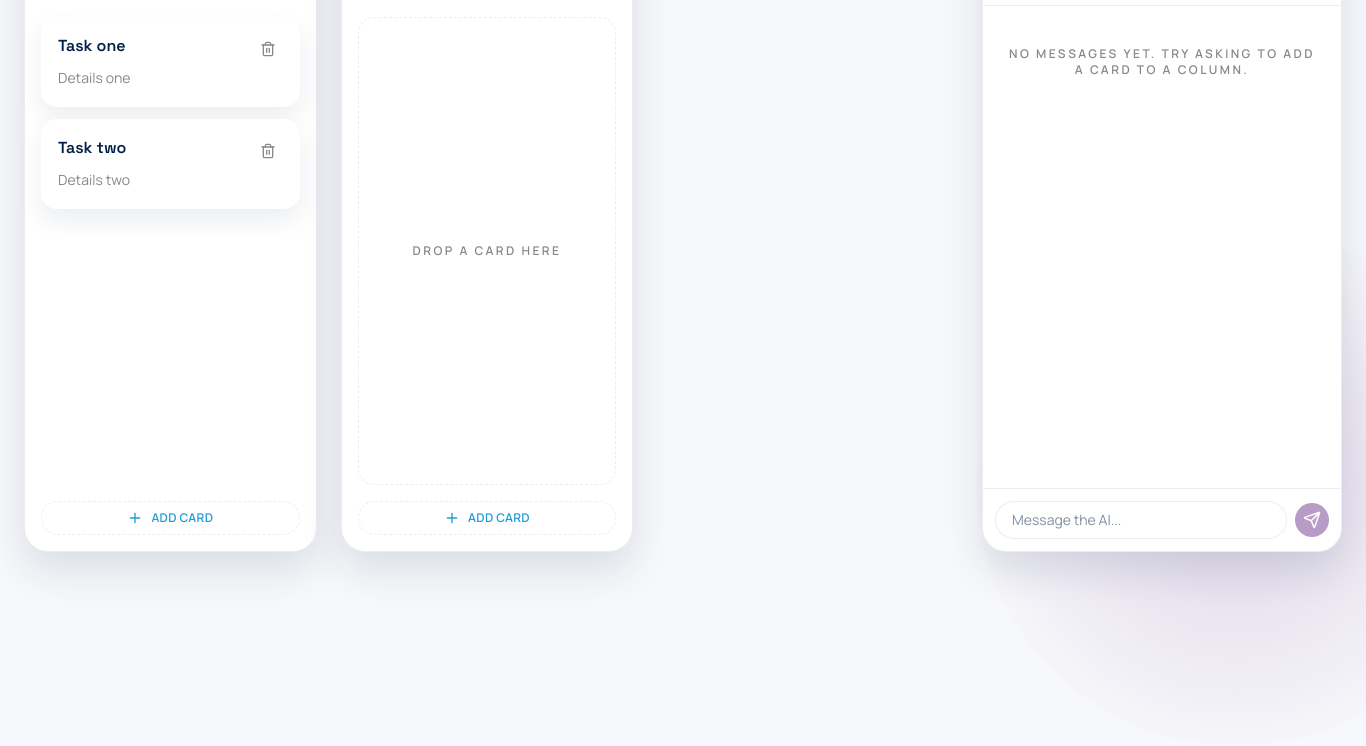
Test: KanbanBoard › replaces the board when the AI returns a board update
This screenshot has width=1366, height=746.
(page scrolled)
In the field named "Chat message": (1141,520) 995,501 -> 1287,539, type "Add a card"
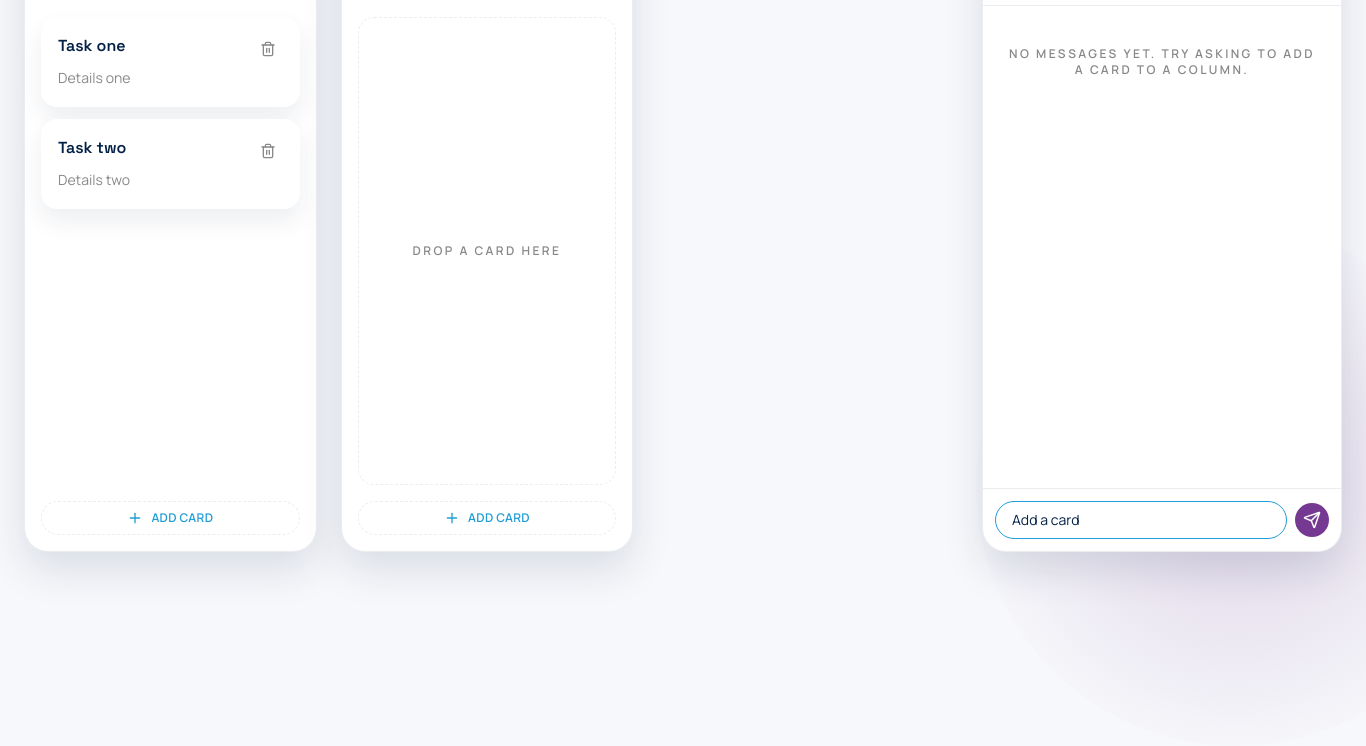
Click the button named "send": (1312,520) 1295,503 -> 1329,537
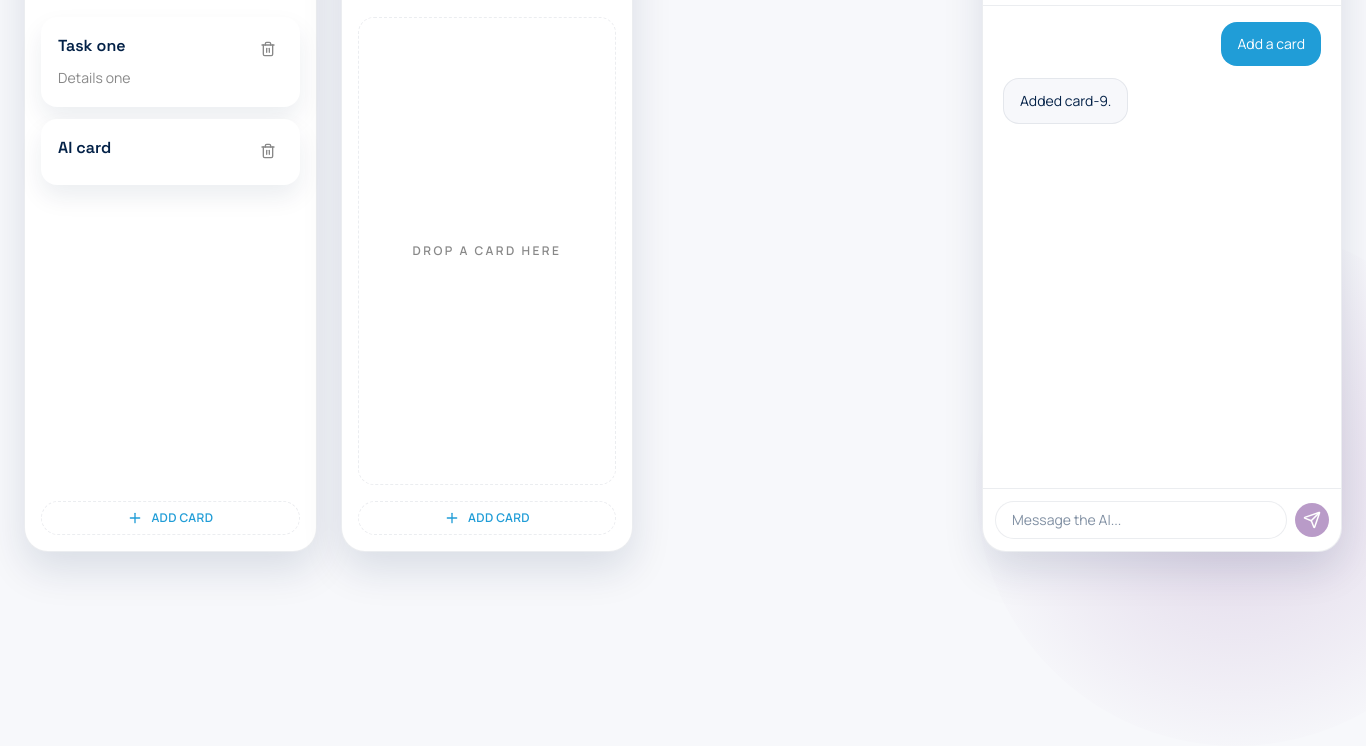
Check: the heading "AI card" is shown, box 58,136 -> 111,160
